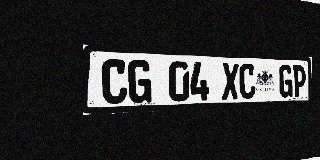0: (169, 61, 189, 102)
4: (190, 62, 209, 101)
C: (102, 59, 127, 104), (239, 63, 255, 99)
G: (128, 60, 151, 103), (279, 65, 292, 98)
P: (293, 65, 305, 97)
X: (222, 63, 239, 100)
